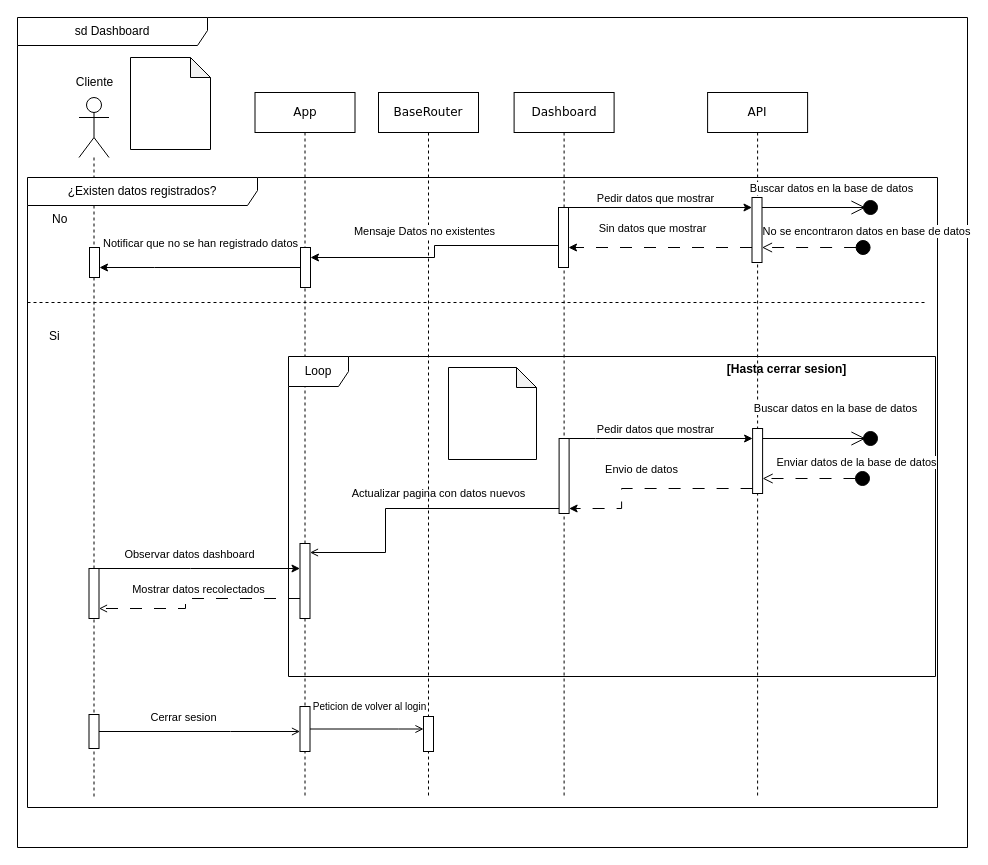
Image size: 988x865. Some labels were removed from this diagram. Each missing label, with the centre of its shape:
"Los datos constantemente se actualizan" goes at [492,413].
"Usuario ya inicio sesion" goes at [170,103].
